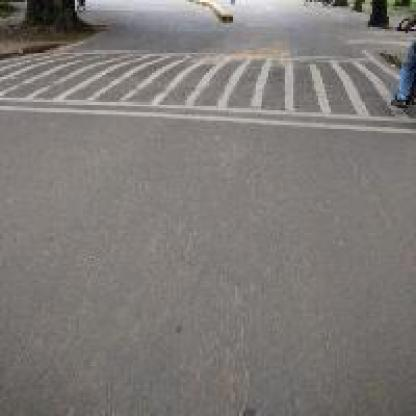Speed Bump: (0, 48, 391, 131)
